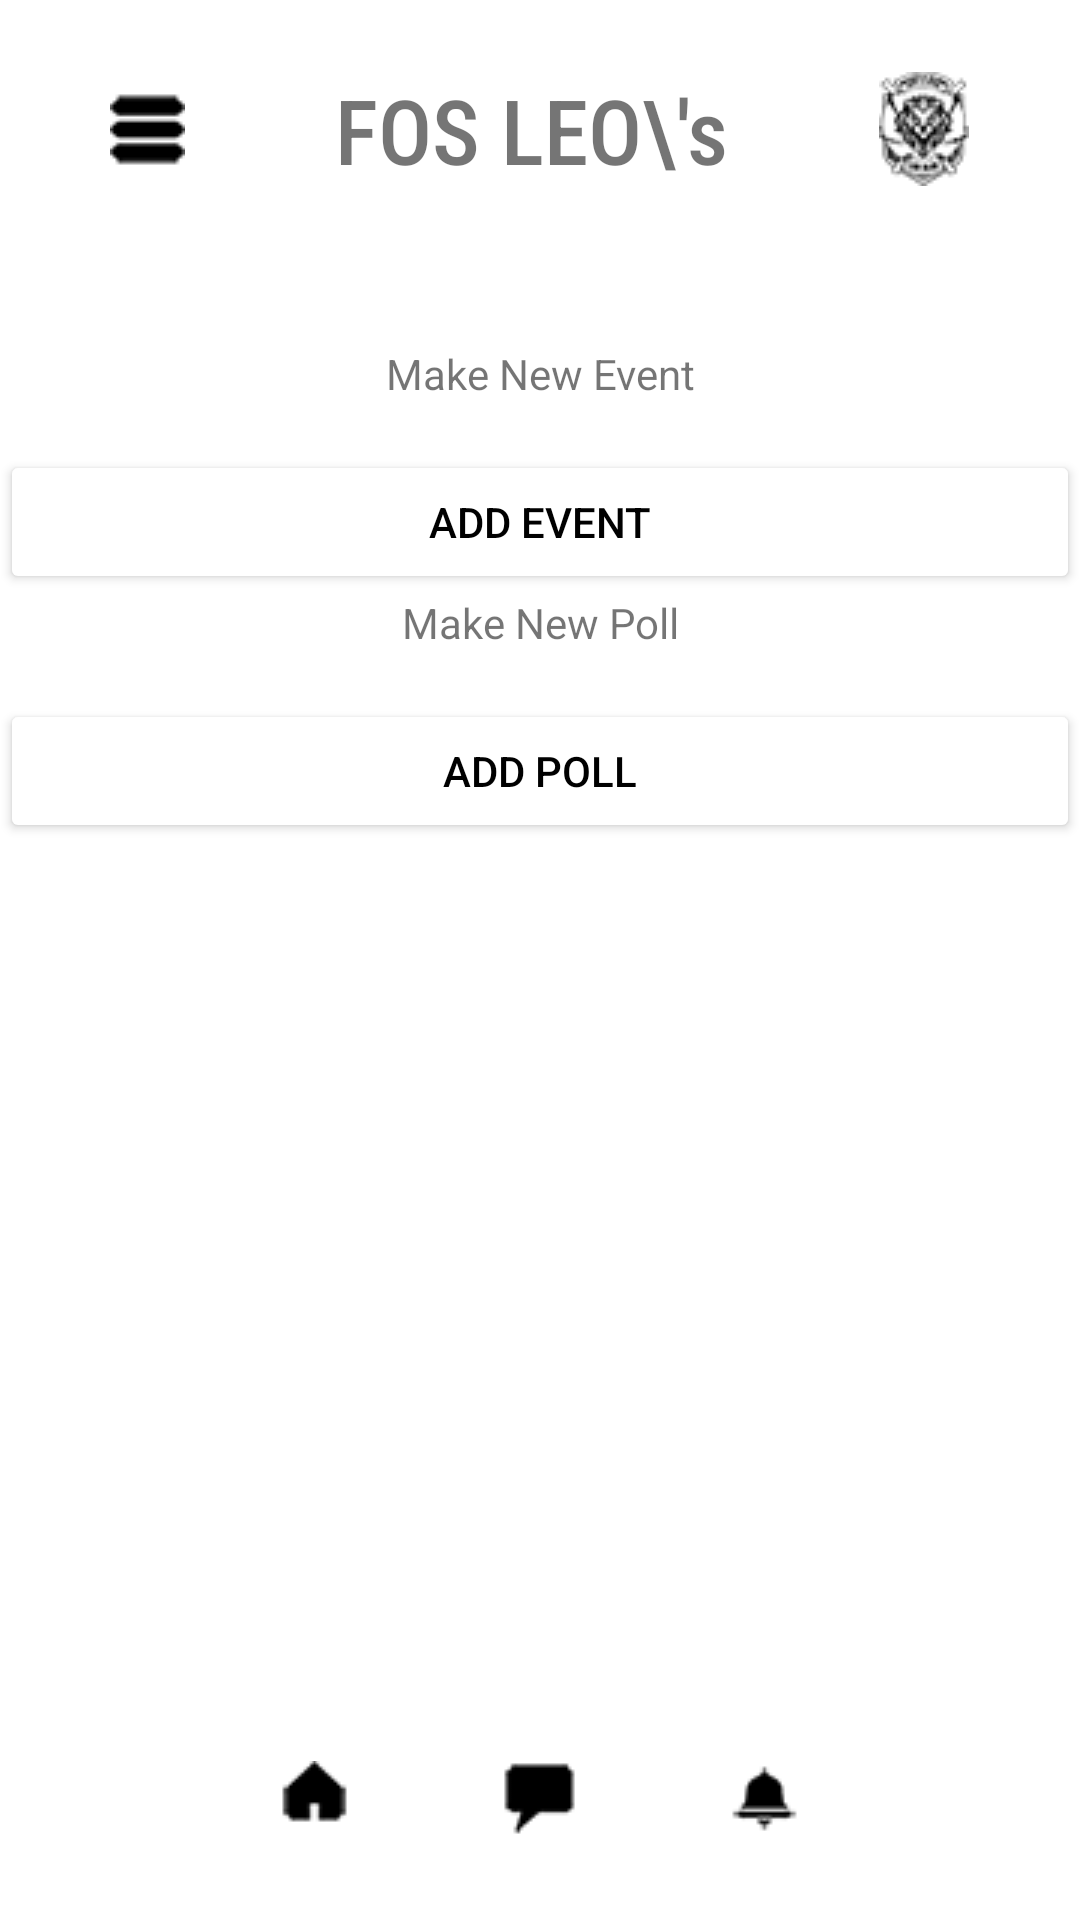

Icons on this 1080*1920 Android screen, each with its box as BBox(x1, y1, x2, y2):
chat: BBox(504, 1763, 575, 1834)
home: BBox(282, 1761, 347, 1822)
menu: BBox(110, 94, 185, 165)
notification: BBox(732, 1766, 797, 1831)
